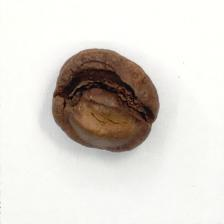NG: (50, 54, 155, 141)
